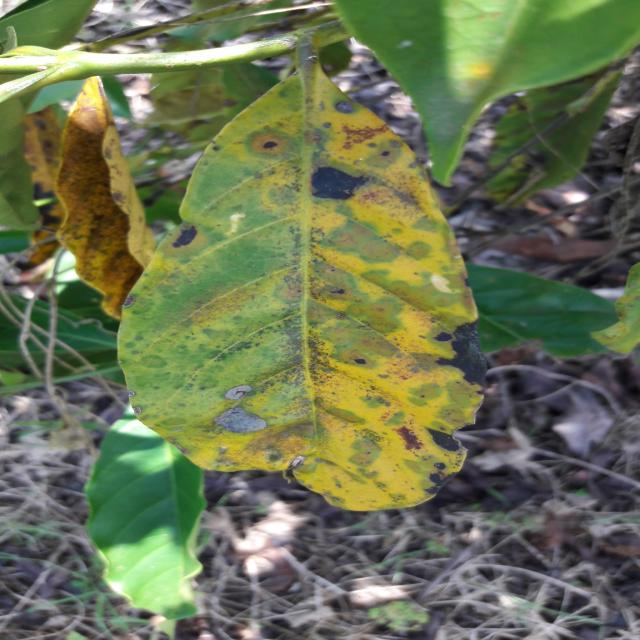Enfermedad-Roya: (116, 70, 486, 515)
